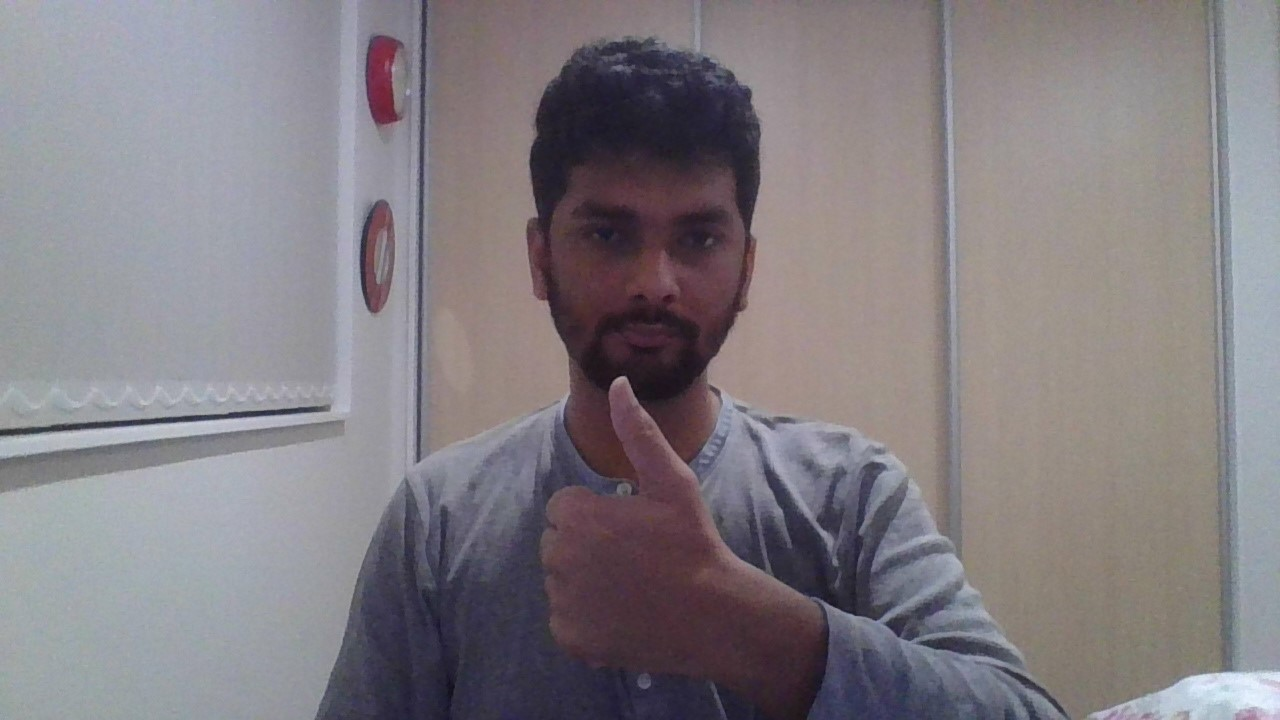good: (539, 377, 733, 676)
